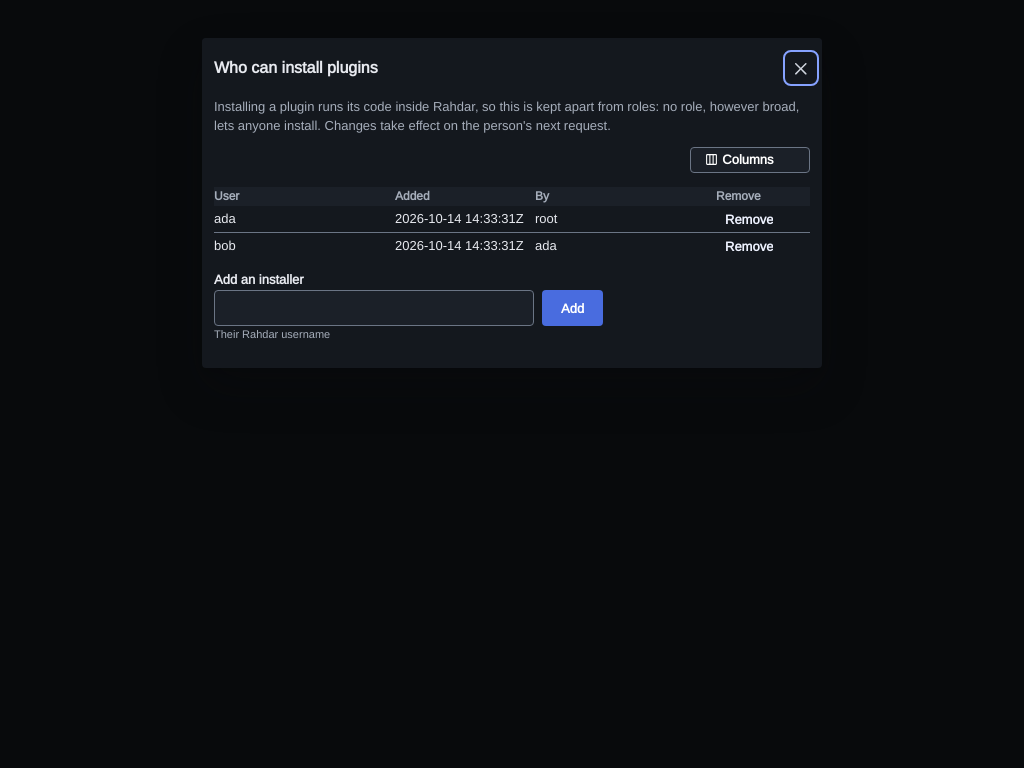
Scenario: InstallersDialog › removes an installer and announces it
Click the button with aria-label "Remove bob" at (749, 246), box [716,233,782,259]
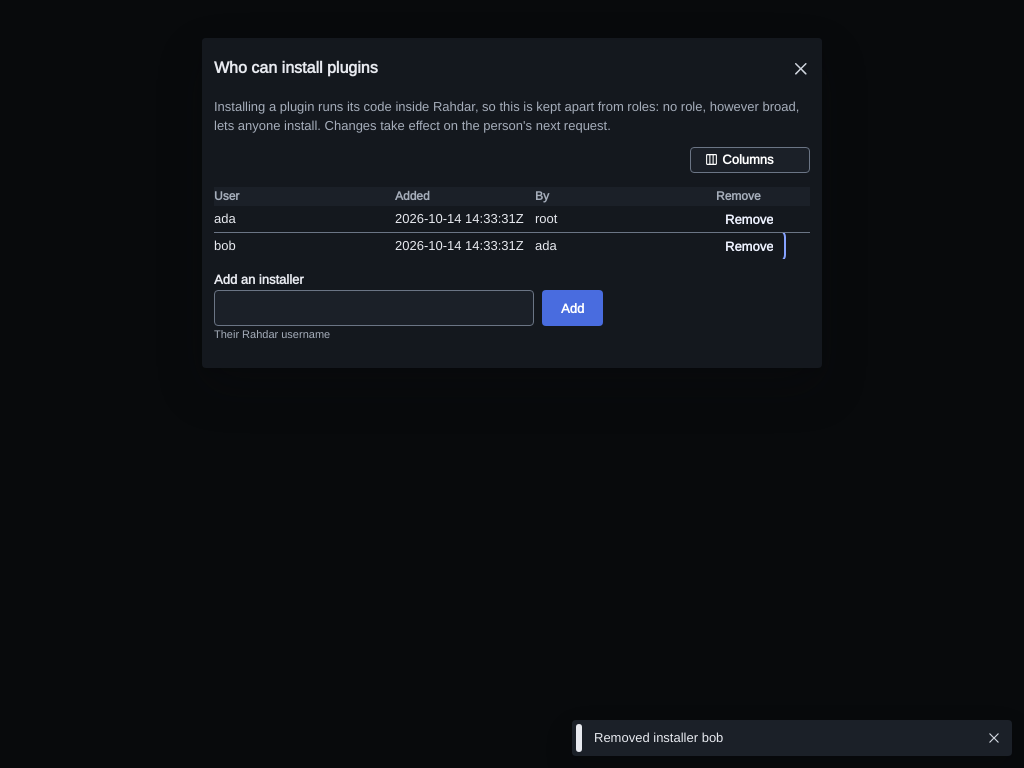
Check: the text "Removed installer bob" is shown, box [594,729,723,746]
